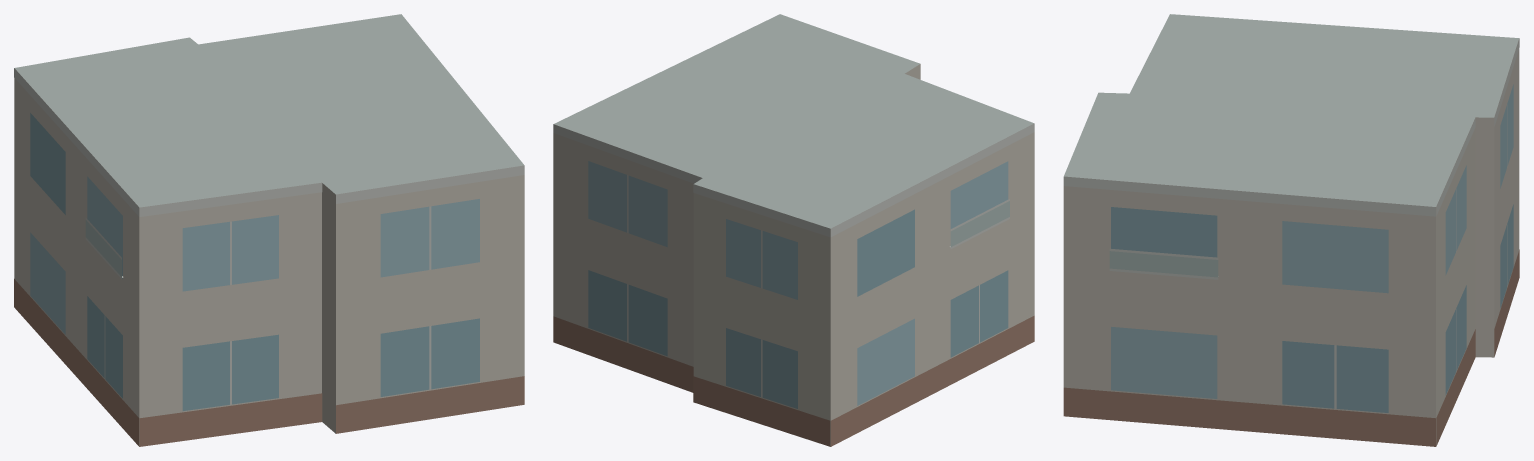
Rendered from survey-upis-32656202.glb.
The picture shows the model from 3 angles, left to right: view 1: azimuth 30°, elevation 25°; view 2: azimuth 150°, elevation 25°; view 3: azimuth 270°, elevation 25°; orthographic projection. The views are drawn at different scales.
Parts seen in each view (by area): view 1: survey-upis-32656202.tmp; view 2: survey-upis-32656202.tmp; view 3: survey-upis-32656202.tmp.
Part boxes in pixels (x1,y1,x2,y2): survey-upis-32656202.tmp: (14,14,524,446); survey-upis-32656202.tmp: (553,14,1034,446); survey-upis-32656202.tmp: (1063,14,1519,446).
Bounding box in the file's own units: 10.54 × 6.1 × 10.52.
